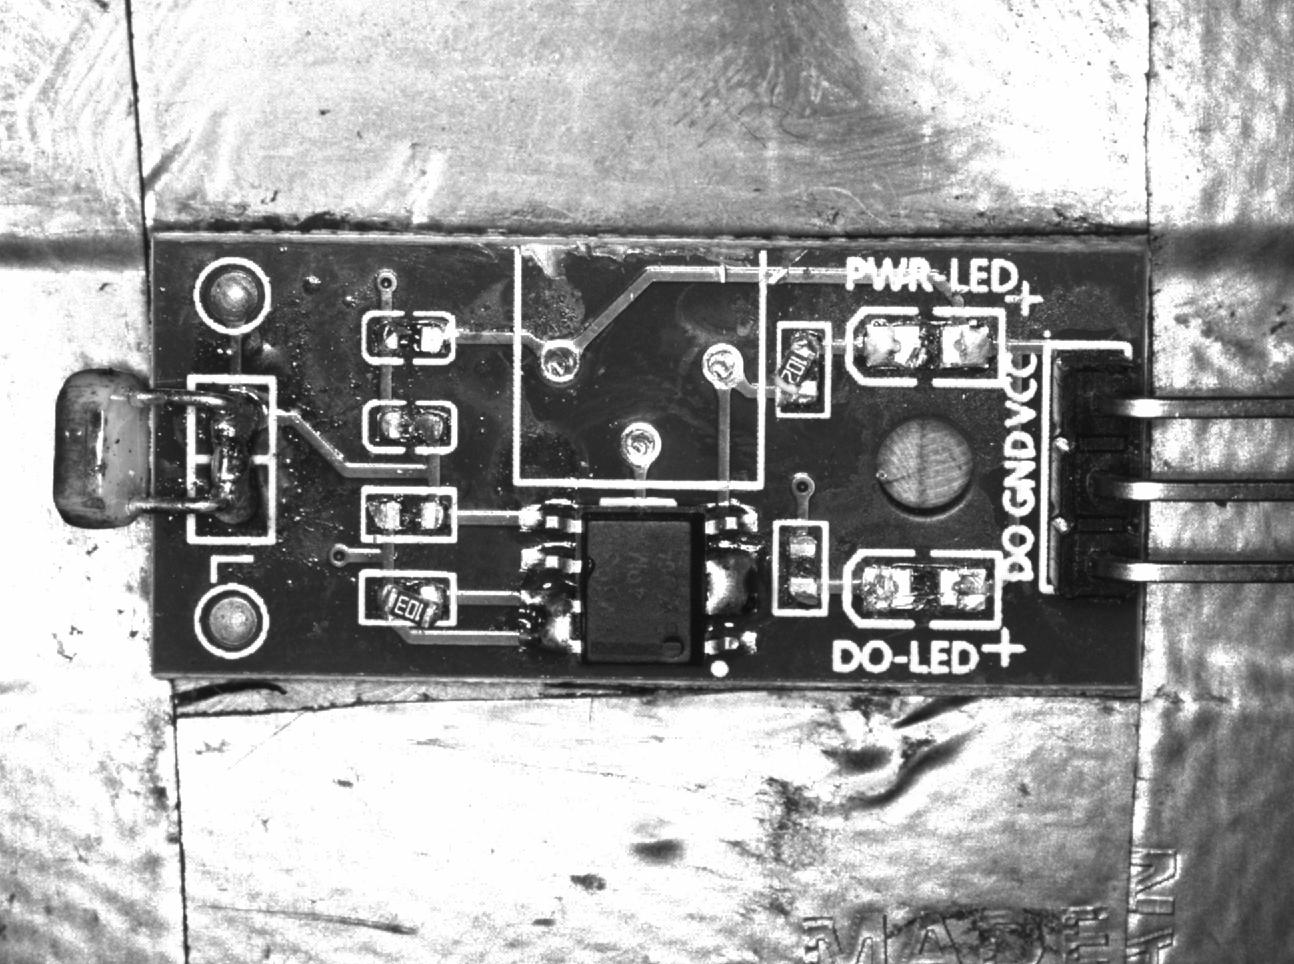bridge: (188, 378, 273, 540), (702, 546, 760, 622), (520, 588, 582, 660)
lifted: (357, 569, 458, 635), (775, 323, 830, 418)
miss: (353, 485, 456, 549), (368, 395, 453, 456), (774, 518, 828, 613), (363, 313, 454, 370)
